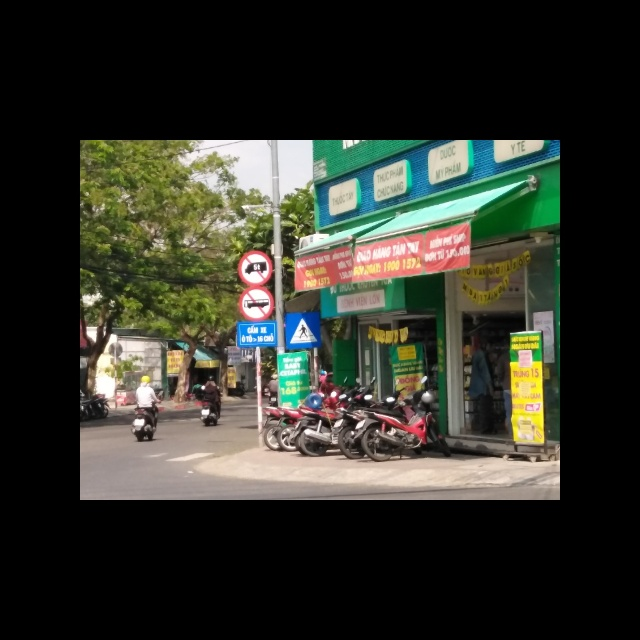Cấm xe tải: (236, 248, 273, 284)
Cấm xe xe khách: (240, 285, 277, 322)
Đường dành cho người đi bộ: (284, 312, 321, 348)
